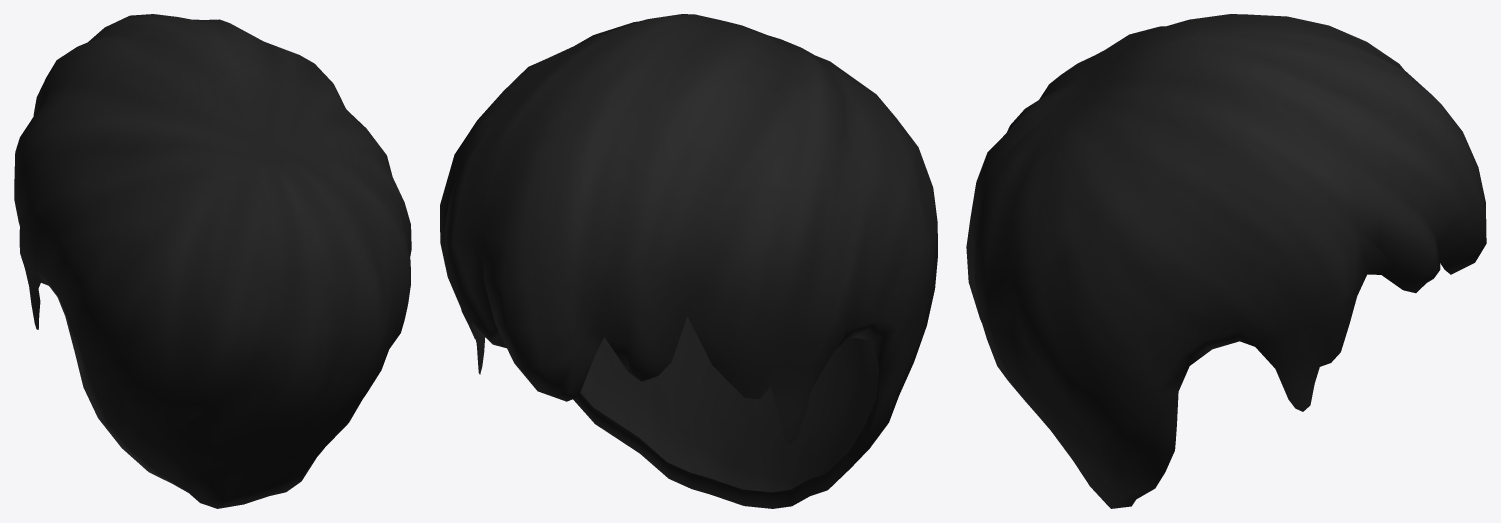
The model's file is Hair_Male_001_textured_black.glb.
3 views of the same model, side by side, from view 1: azimuth 30°, elevation 25°; view 2: azimuth 150°, elevation 25°; view 3: azimuth 270°, elevation 25° (orthographic). The views are drawn at different scales.
Parts seen in each view (by area): view 1: Hair_Male_001; view 2: Hair_Male_001; view 3: Hair_Male_001.
Boxes of the visible parts, bbox=[...] form: Hair_Male_001: bbox=[14, 14, 411, 508]; Hair_Male_001: bbox=[440, 14, 937, 508]; Hair_Male_001: bbox=[966, 14, 1486, 508].
Bounding box in the file's own units: 0.189 × 0.2389 × 0.2448.
Materials: 1 (1 with a texture image).
